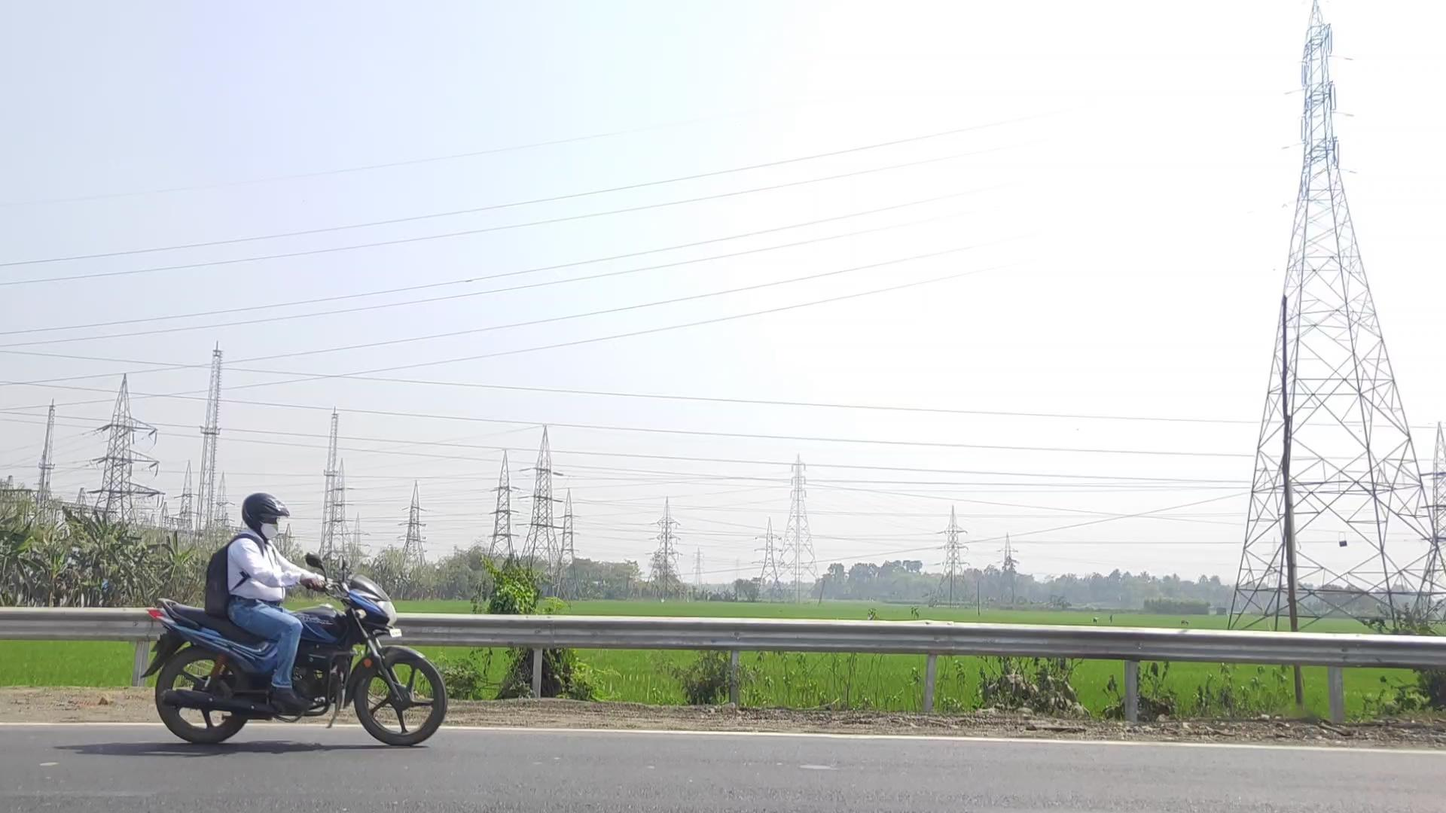bike: (141, 492, 449, 749)
